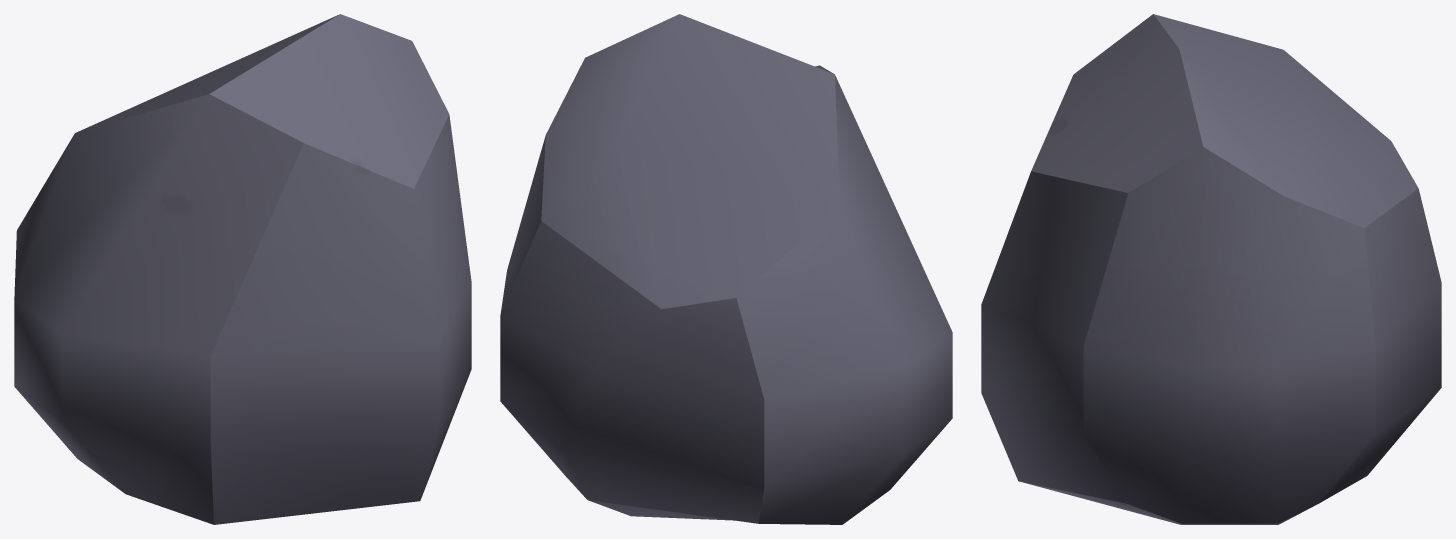
File: rock_1.fbx
The picture shows the model from 3 angles, left to right: view 1: azimuth 30°, elevation 25°; view 2: azimuth 150°, elevation 25°; view 3: azimuth 270°, elevation 25°; orthographic projection.
Visible parts, largest first — view 1: rock_1; view 2: rock_1; view 3: rock_1.
Boxes of the visible parts, x1,y1,x2,y2 form: rock_1: (14, 14, 471, 524); rock_1: (500, 14, 952, 524); rock_1: (981, 14, 1441, 524).
Size of the model in its own units: 1.62 by 1.81 by 1.59.
